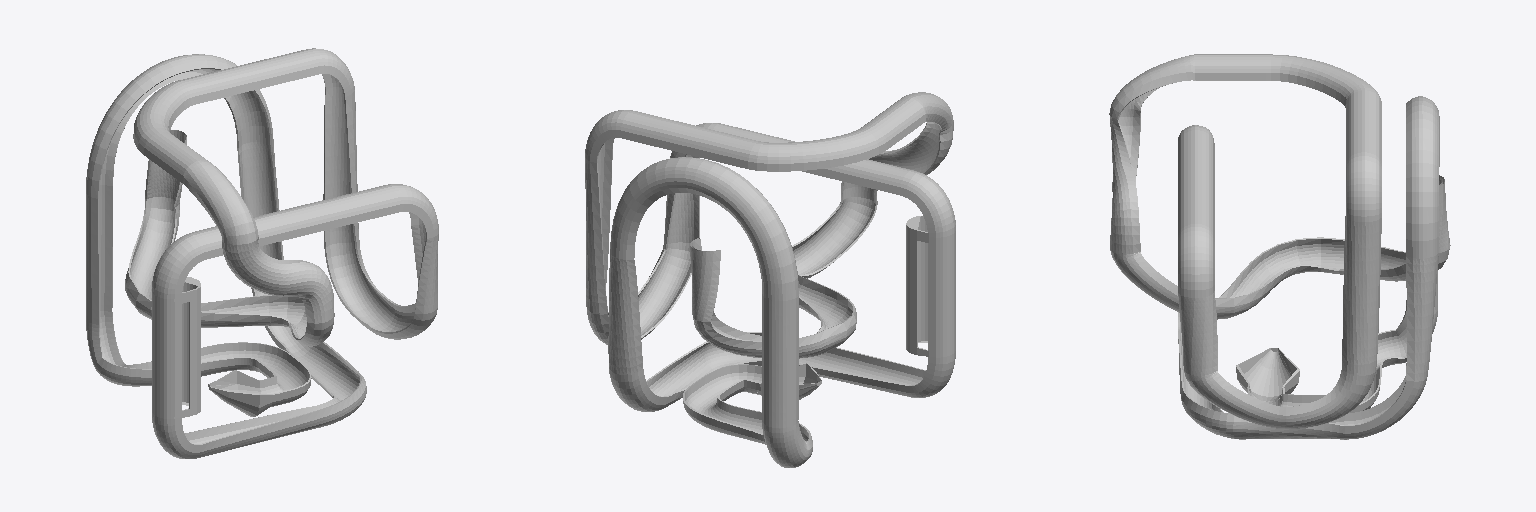
Rendered from path.obj.
The picture shows the model from 3 angles: view 1: azimuth 30°, elevation 25°; view 2: azimuth 150°, elevation 25°; view 3: azimuth 270°, elevation 25°; orthographic projection.
Parts seen in each view (by area): view 1: BezierCurve, BRIDGE_Mesh.001, START_Mesh.002; view 2: BezierCurve, BRIDGE_Mesh.001, START_Mesh.002; view 3: BezierCurve, START_Mesh.002.
Part boxes in pixels (x1,y1,x2,y2): BezierCurve: (86,48,438,458); BRIDGE_Mesh.001: (182,277,200,417); START_Mesh.002: (208,370,281,416); BezierCurve: (585,92,955,467); BRIDGE_Mesh.001: (906,216,928,356); START_Mesh.002: (756,363,821,399); BezierCurve: (1109,54,1450,439); START_Mesh.002: (1236,348,1299,403).
Bounding box in the file's own units: 2.15 × 2.16 × 2.21.